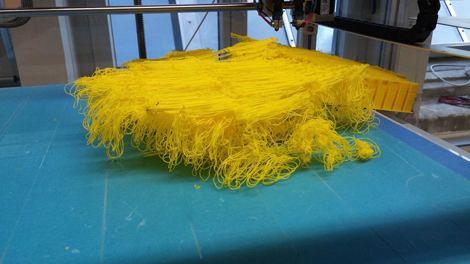Spaghetti: (66, 52, 276, 206), (264, 50, 374, 173)
